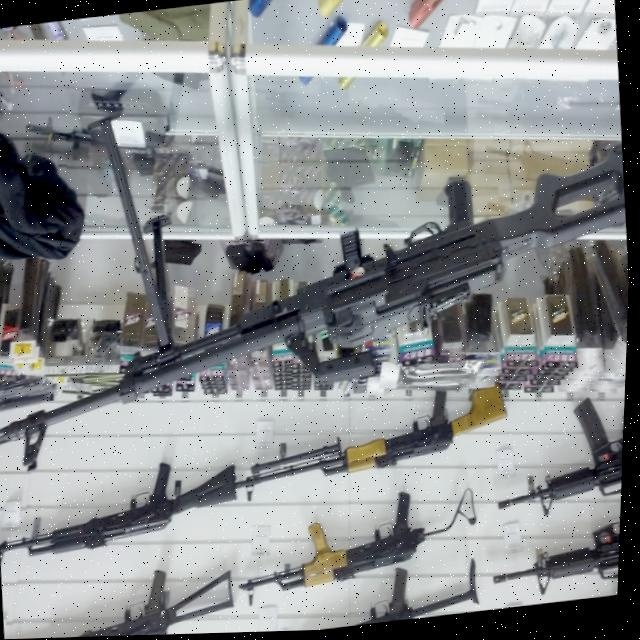firearm: (0, 145, 635, 478), (237, 384, 516, 508), (234, 480, 487, 610), (0, 451, 247, 572), (493, 398, 628, 534), (3, 564, 240, 639), (491, 502, 625, 605)
